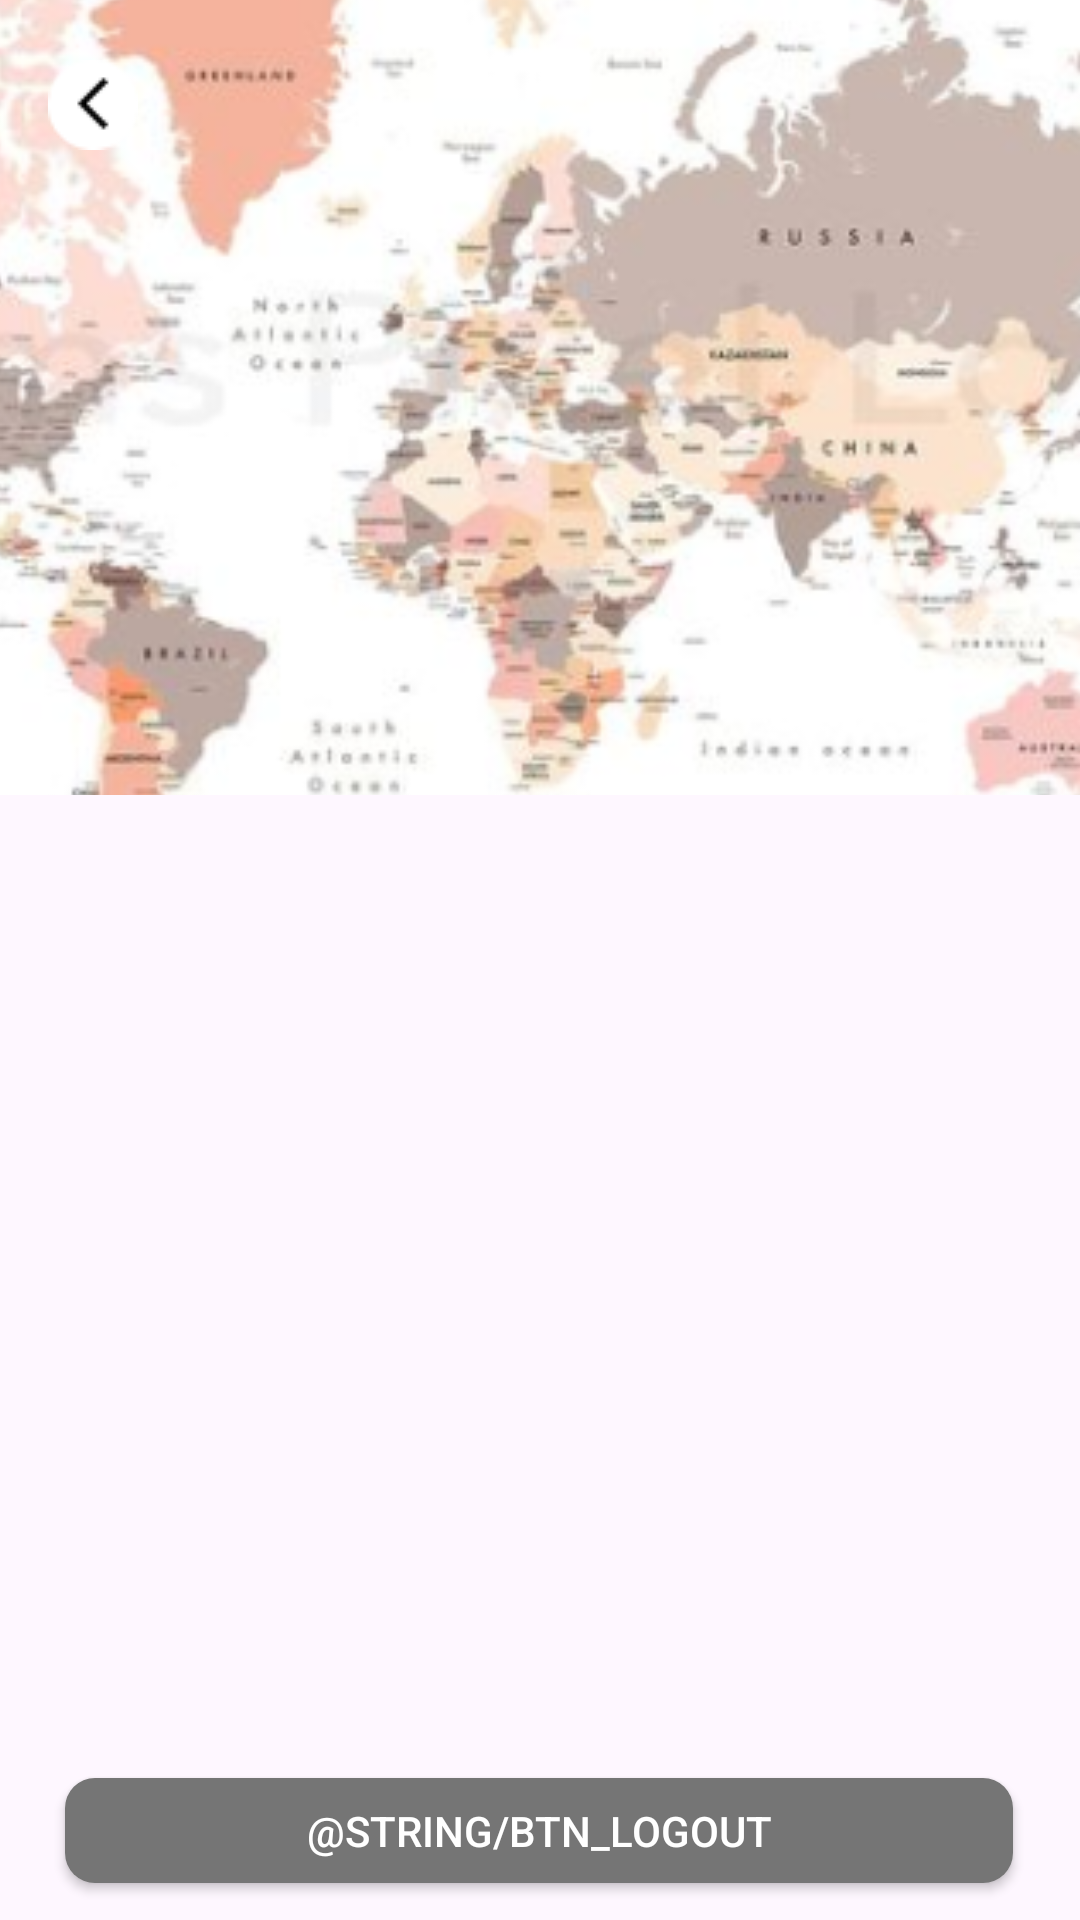

Screen size 1080px×1920px. Icon name, then its center in pixels as (x,y):
arrow back: (93,105)
